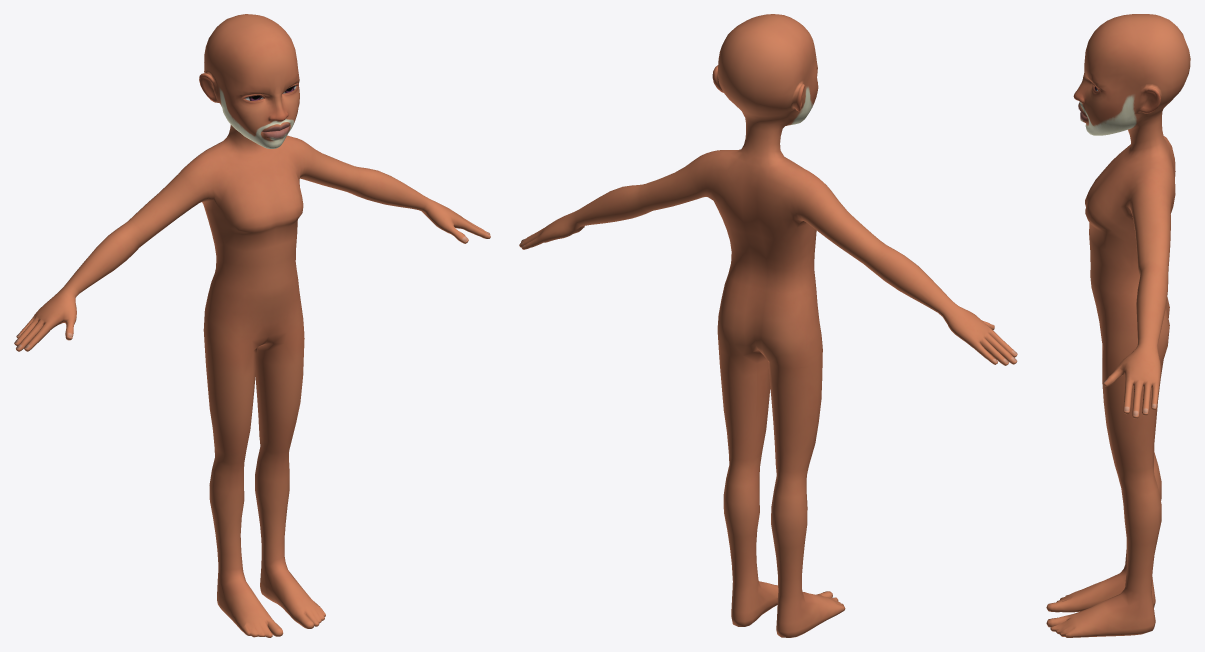
The model's file is frame_0064.glb.
3 views of the same model, side by side, from view 1: azimuth 30°, elevation 25°; view 2: azimuth 150°, elevation 25°; view 3: azimuth 270°, elevation 25° (orthographic). The views are drawn at different scales.
Visible parts, largest first — view 1: frame_0064_head_geo; view 2: frame_0064_head_geo; view 3: frame_0064_head_geo.
Part boxes in pixels (x1,y1,x2,y2): frame_0064_head_geo: (14, 14, 490, 637); frame_0064_head_geo: (519, 14, 1017, 637); frame_0064_head_geo: (1046, 14, 1190, 637).
Size of the model in its own units: 1.28 by 1.5 by 0.3253.
3 materials, 3 textured.
